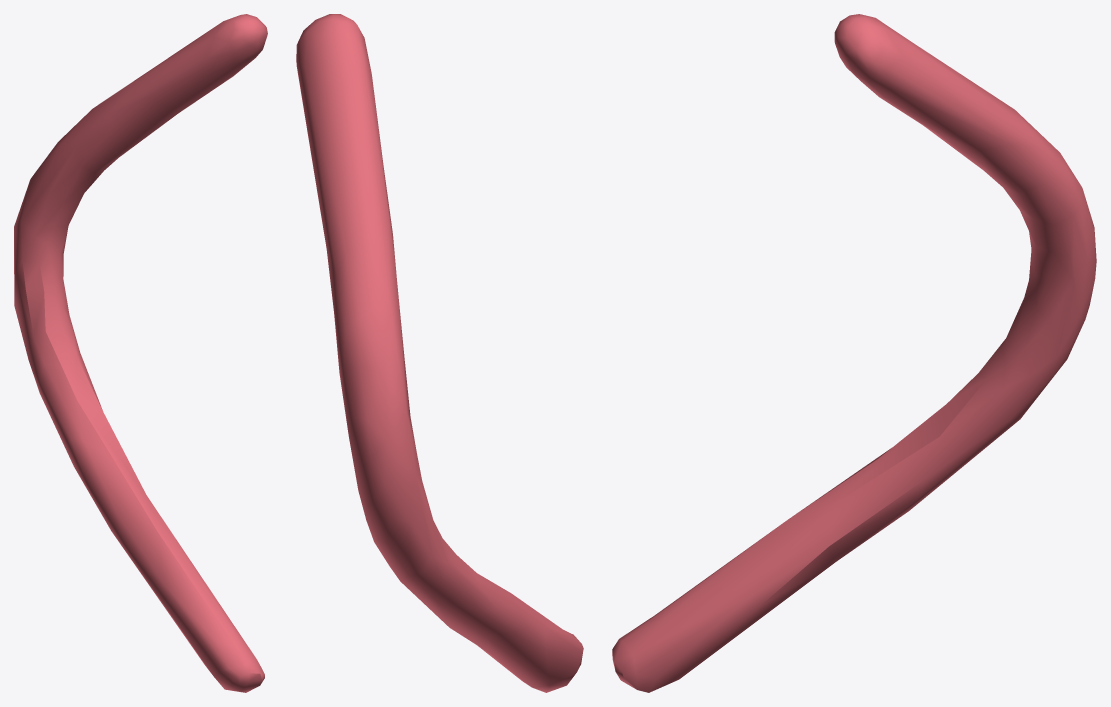
File: fma69390_fj3567.glb
3 renders of one model, left to right at view 1: azimuth 30°, elevation 25°; view 2: azimuth 150°, elevation 25°; view 3: azimuth 270°, elevation 25°, orthographic. The views are drawn at different scales.
Visible parts, largest first — view 1: FMA69390_FJ3567; view 2: FMA69390_FJ3567; view 3: FMA69390_FJ3567.
Part boxes in pixels (x1=…): FMA69390_FJ3567: x1=14, y1=14, x2=267, y2=692; FMA69390_FJ3567: x1=296, y1=14, x2=583, y2=692; FMA69390_FJ3567: x1=612, y1=14, x2=1096, y2=692.
Size of the model in its own units: 0.0338 by 0.1099 by 0.0667.
